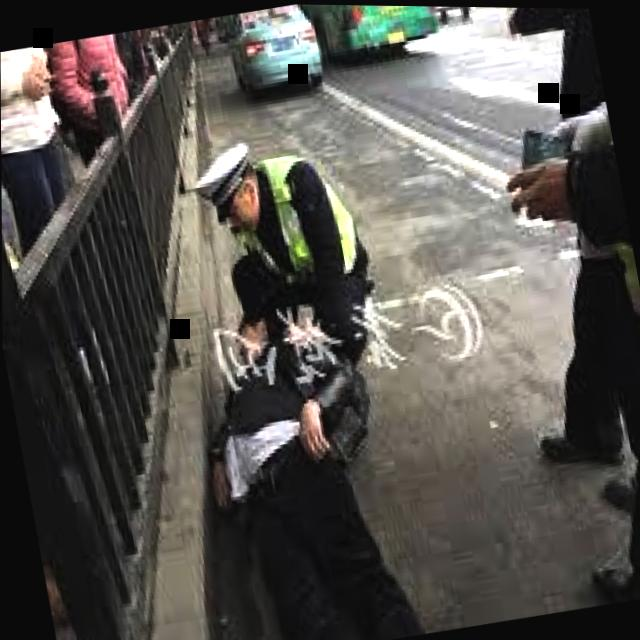Fall-Detected: (153, 265, 494, 640)
